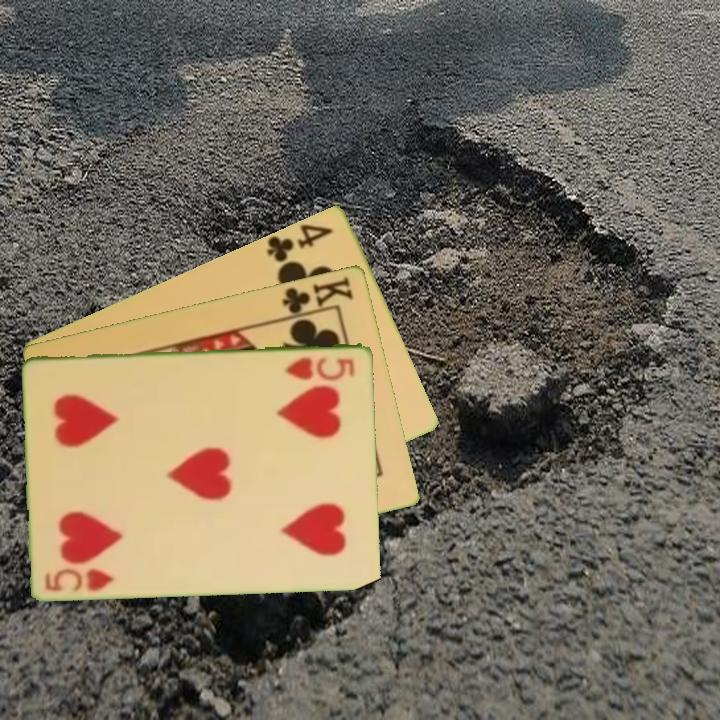4c: (262, 220, 337, 265)
5h: (41, 564, 119, 594), (282, 353, 358, 382)
Kc: (279, 272, 357, 321)
